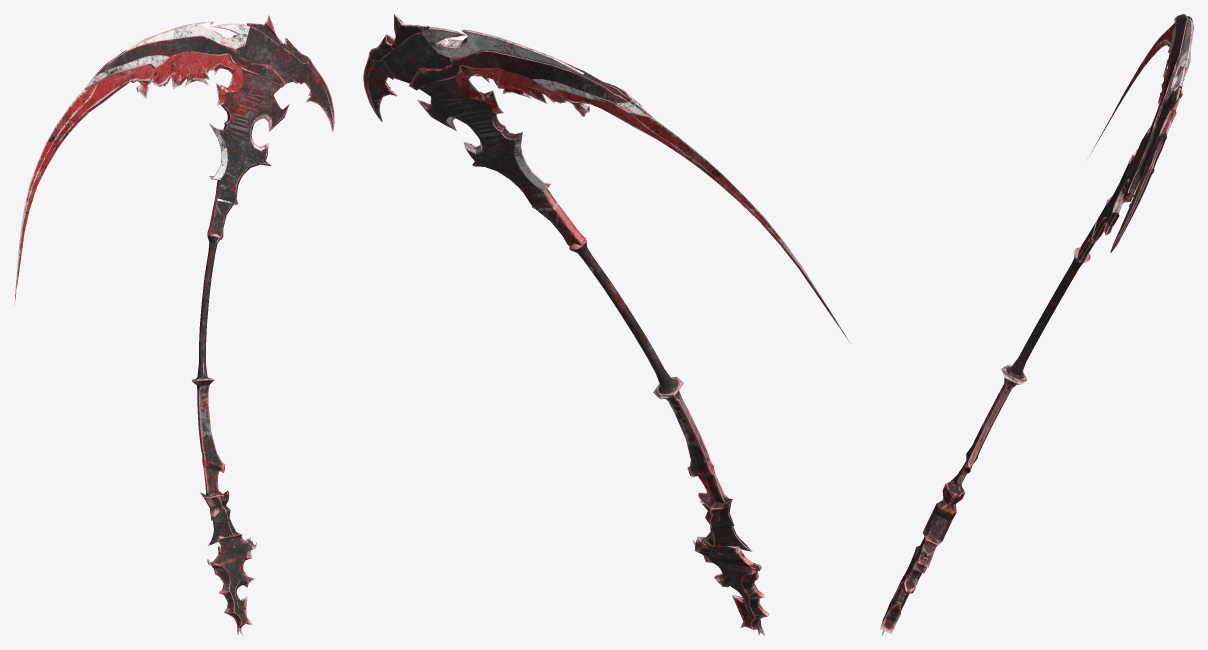
3 renders of one model, left to right at view 1: azimuth 30°, elevation 25°; view 2: azimuth 150°, elevation 25°; view 3: azimuth 270°, elevation 25°, orthographic. The views are drawn at different scales.
Visible parts, largest first — view 1: DesolatorLP; view 2: DesolatorLP; view 3: DesolatorLP.
Boxes of the visible parts, x1=… form: DesolatorLP: x1=14, y1=14, x2=334, y2=635; DesolatorLP: x1=363, y1=14, x2=850, y2=635; DesolatorLP: x1=880, y1=14, x2=1193, y2=635.
Size of the model in its own units: 3.29 by 4.76 by 2.13.
1 material, 1 textured.
